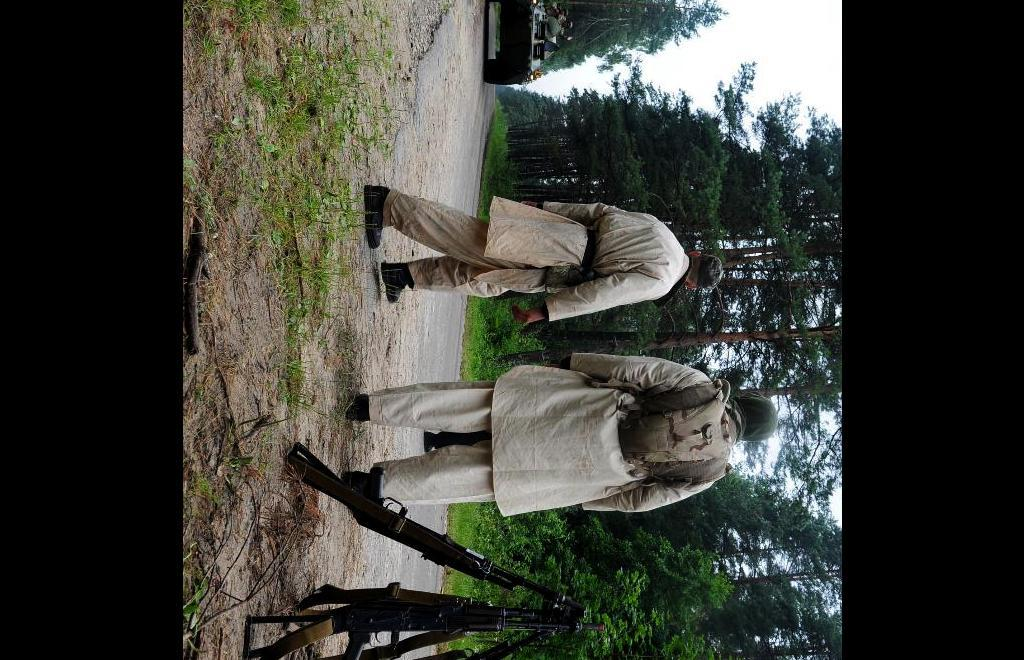gun: (276, 428, 572, 602), (247, 581, 587, 660)
